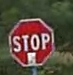stop: (6, 15, 56, 66)
